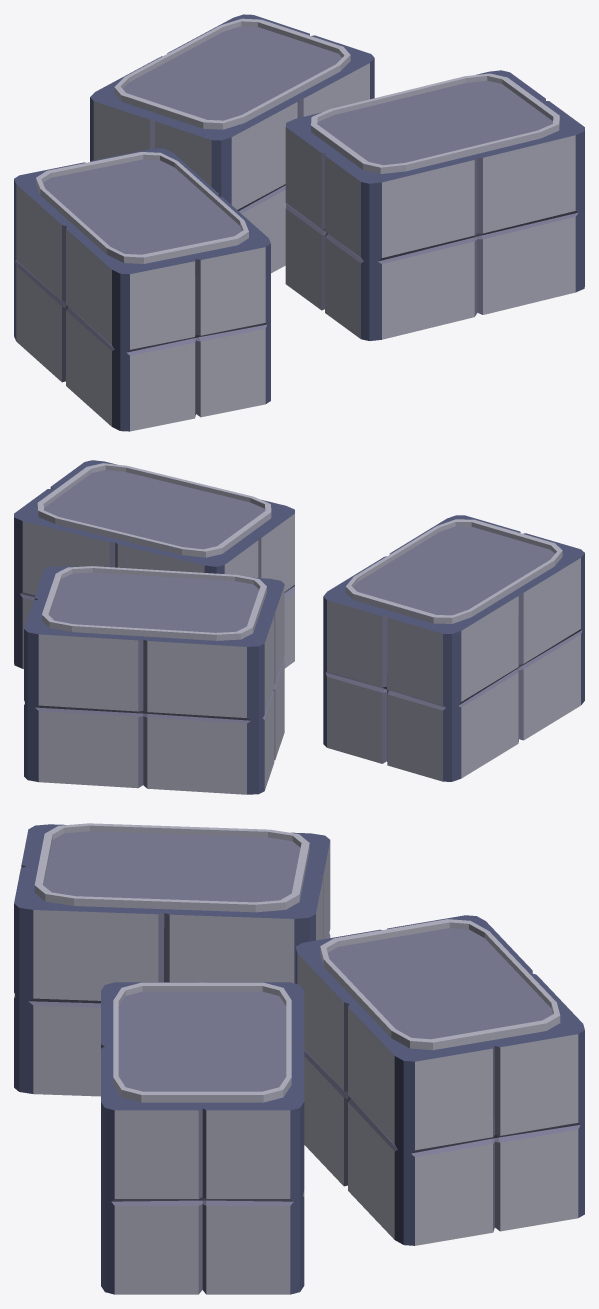
The picture shows the model from 3 angles, top to bottom: view 1: azimuth 30°, elevation 25°; view 2: azimuth 150°, elevation 25°; view 3: azimuth 270°, elevation 25°; orthographic projection. The views are drawn at different scales.
Parts seen in each view (by area): view 1: Cube.056; view 2: Cube.056; view 3: Cube.056.
Part boxes in pixels (x1,y1,x2,y2): Cube.056: (14, 14, 584, 431); Cube.056: (14, 460, 584, 794); Cube.056: (14, 823, 584, 1294).
Size of the model in its own units: 153 by 47.69 by 129.
